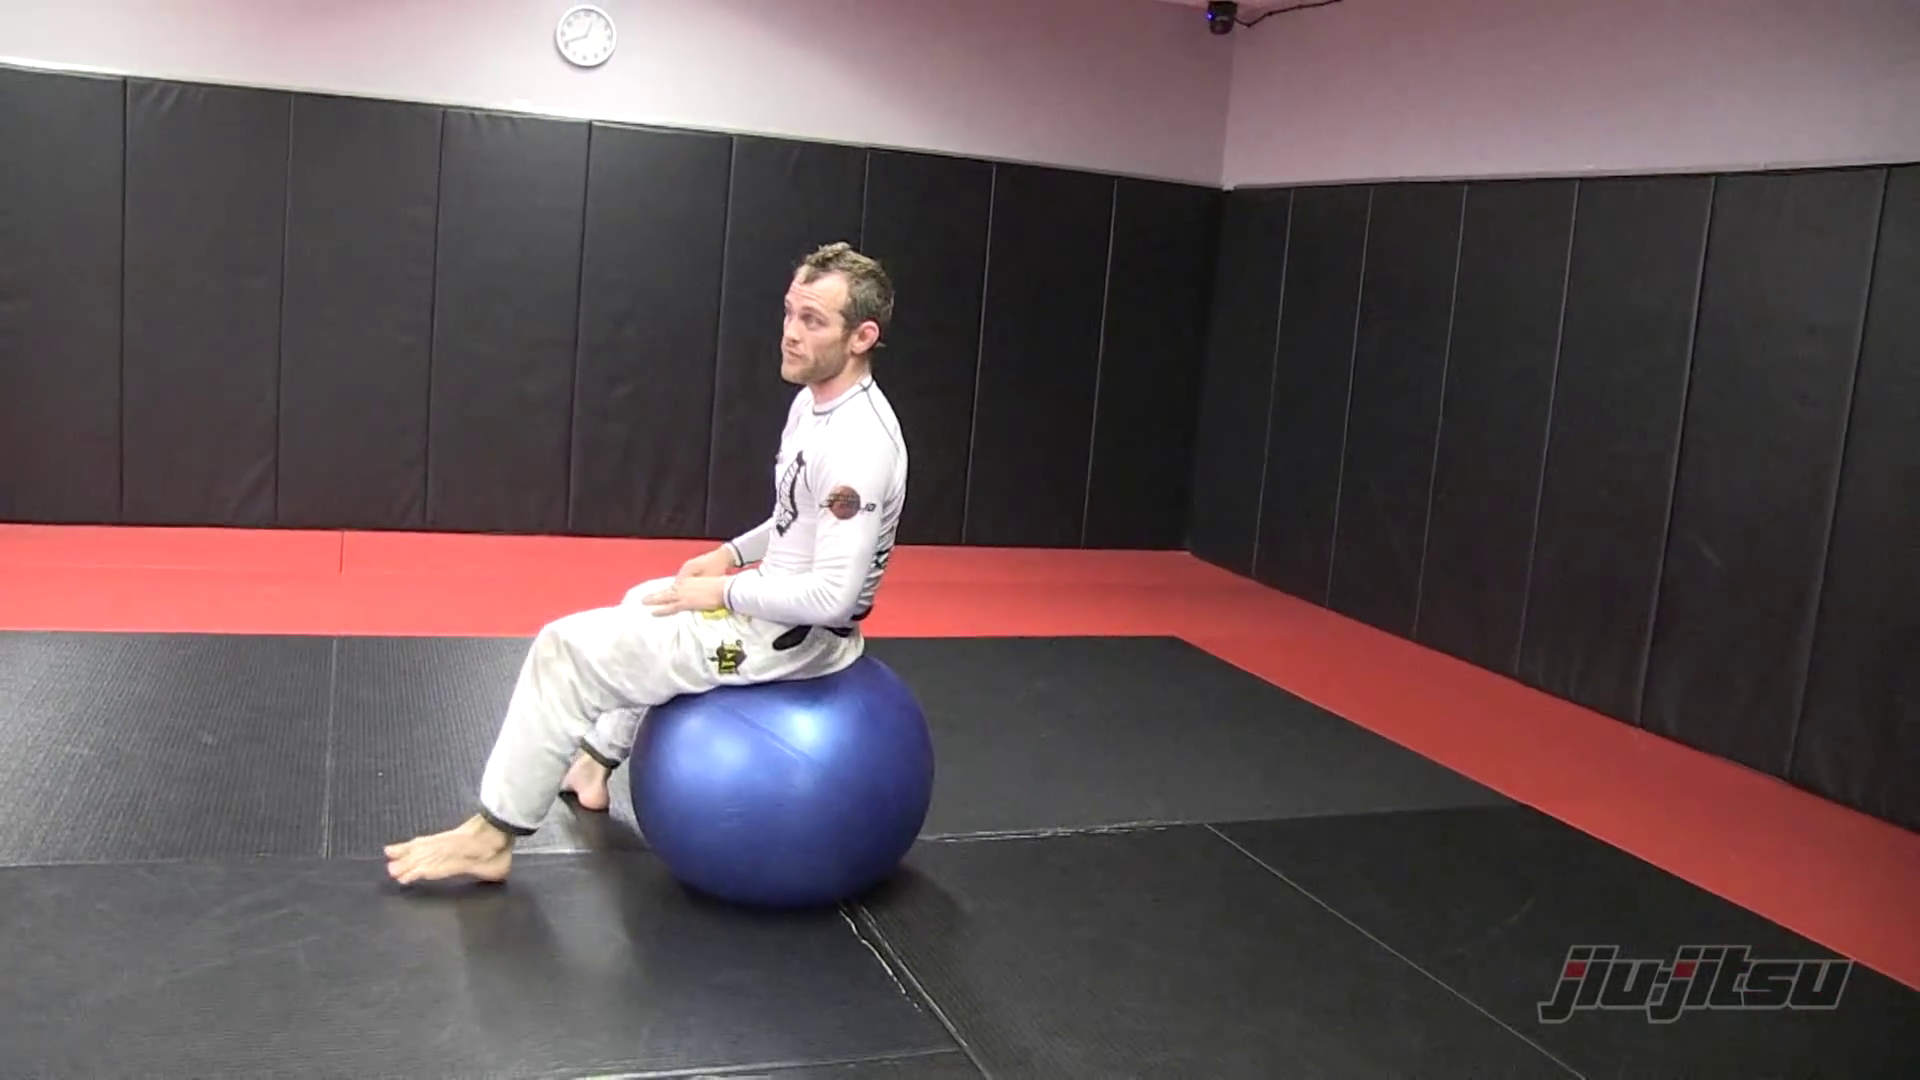yogaball: (633, 636, 943, 922)
